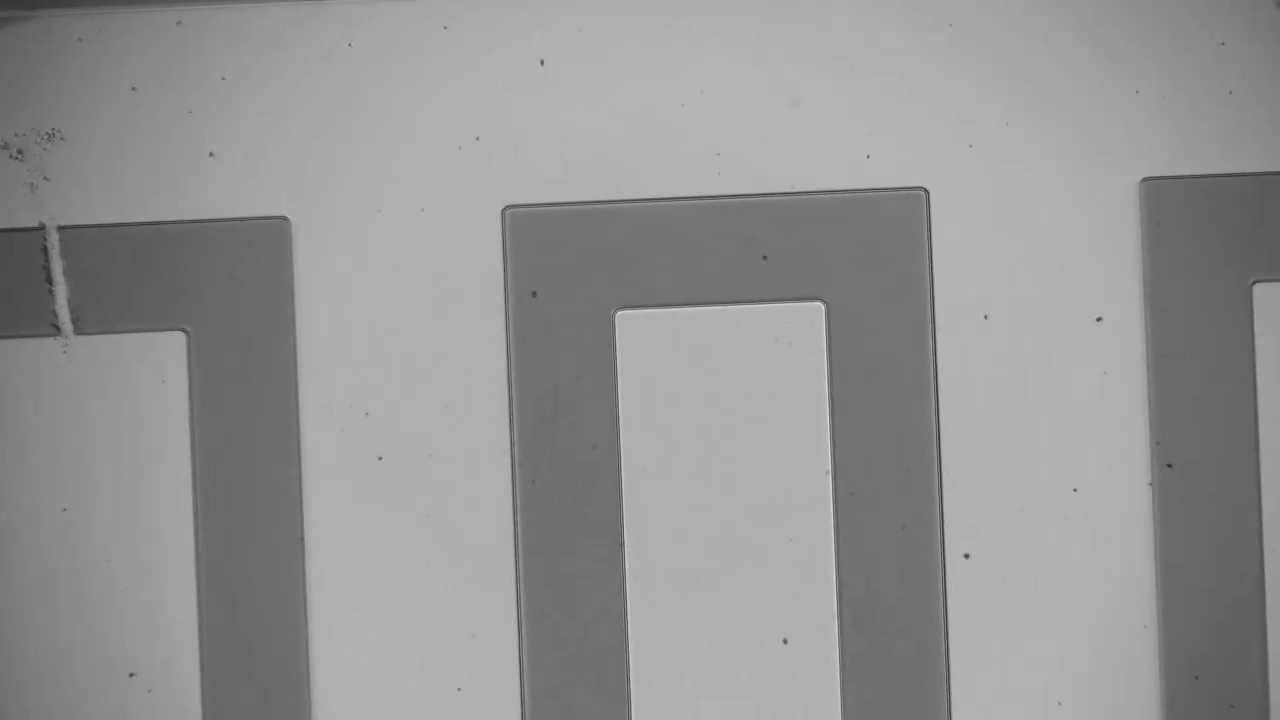Short_circuit: (23, 208, 106, 353)
